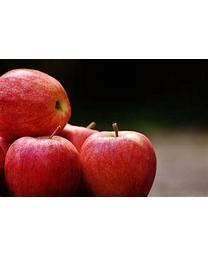apple: (80, 123, 157, 197), (3, 126, 79, 196), (0, 69, 70, 141)
